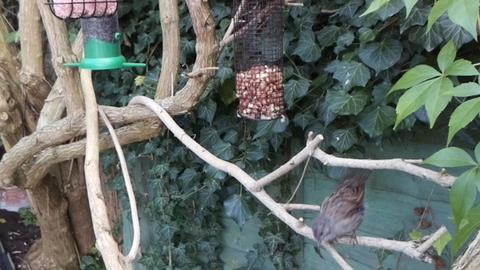dunnock: (311, 168, 375, 249)
